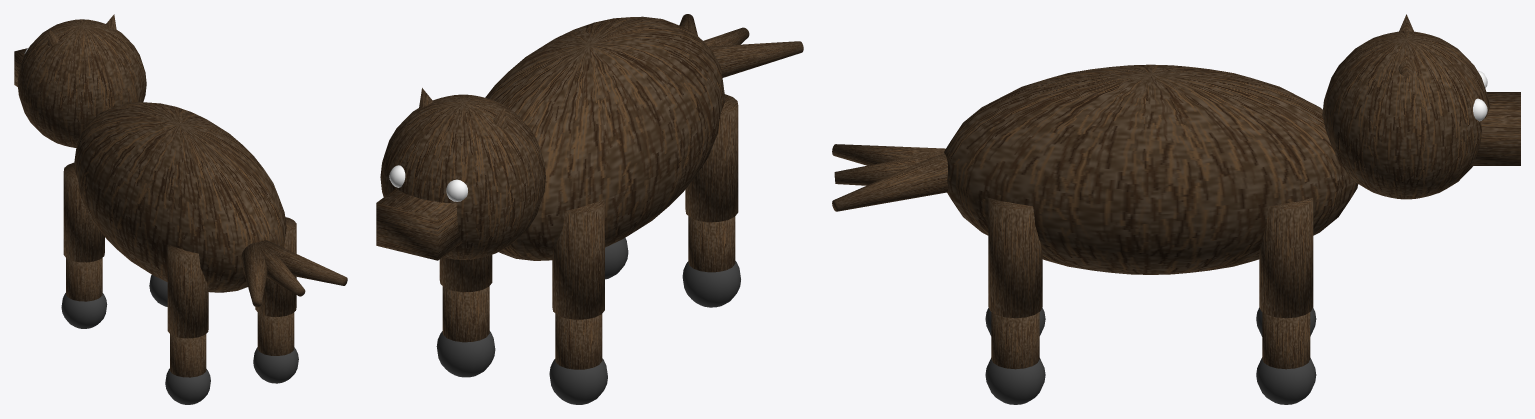
File: hulijing.glb
The picture shows the model from 3 angles, left to right: view 1: azimuth 30°, elevation 25°; view 2: azimuth 150°, elevation 25°; view 3: azimuth 270°, elevation 25°; orthographic projection. The views are drawn at different scales.
Parts seen in each view (by area): view 1: Body, Head, LegUpper, LegUpper.001, LegLower.002, LegUpper.002, LegLower.001, LegLower, Tail.002, Tail, Paw.002, Paw (+3 smaller); view 2: Body, Head, LegUpper.001, Snout, LegUpper, LegLower.001, LegLower, LegLower.003, Tail, Paw.001, Paw, Paw.003 (+4 smaller); view 3: Body, Head, LegUpper.003, LegUpper.002, Tail.002, Snout, LegLower.002, LegLower.003, Paw.003, Paw.002, Tail, Tail.001.
Boxes of the visible parts, x1,y1,x2,y2 form: Body: (73,102,286,292); Head: (17,19,146,147); LegUpper: (167,244,208,338); LegUpper.001: (63,162,104,262); LegLower.002: (257,312,294,355); LegUpper.002: (255,217,296,316); LegLower.001: (66,258,102,301); LegLower: (170,334,206,377); Tail.002: (260,240,347,285); Tail: (241,242,267,306); Paw.002: (253,347,298,383); Paw: (165,368,210,404); Body: (485,16,725,260); Head: (380,94,545,259); LegUpper.001: (552,199,604,319); Snout: (376,189,461,260); LegUpper: (685,94,738,222); LegLower.001: (555,314,602,369); LegLower: (688,216,735,272); LegLower.003: (442,286,489,342); Tail: (708,41,803,77); Paw.001: (549,358,607,404); Paw: (682,261,740,307); Paw.003: (436,331,495,377); Body: (944,64,1358,274); Head: (1322,31,1489,199); LegUpper.003: (1259,197,1313,318); LegUpper.002: (988,197,1042,318); Tail.002: (832,153,948,211); Snout: (1471,92,1520,165); LegLower.002: (991,312,1039,369); LegLower.003: (1262,312,1310,369); Paw.003: (1256,357,1316,404); Paw.002: (985,358,1045,404); Tail: (832,144,945,165); Tail.001: (834,152,944,185).
Size of the model in its own units: 0.5535 by 0.986 by 1.81.
Materials: 3 (1 with a texture image).
